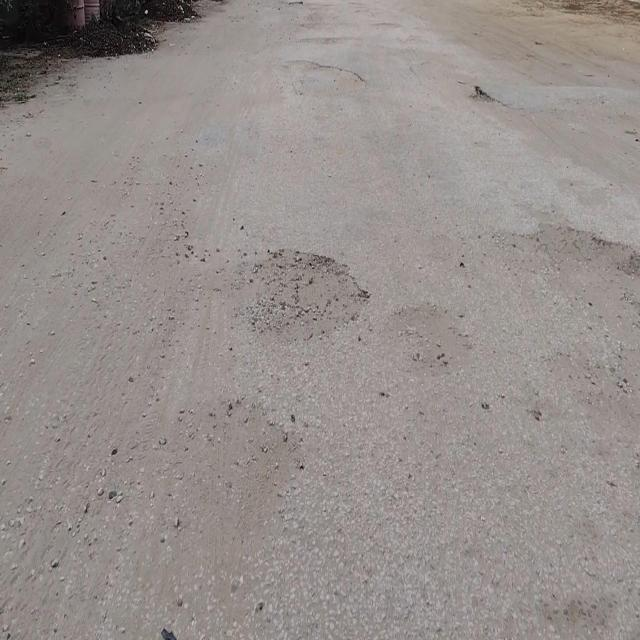Pothole: (234, 248, 373, 350), (283, 58, 368, 97)
